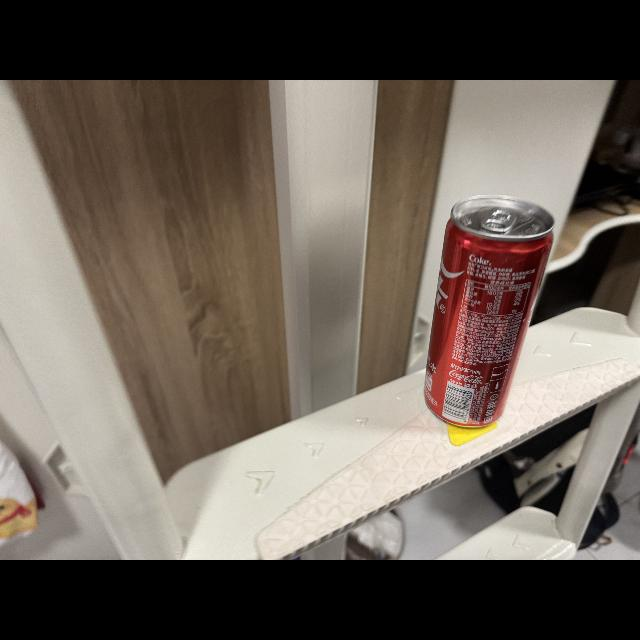Cola: (417, 190, 563, 432)
